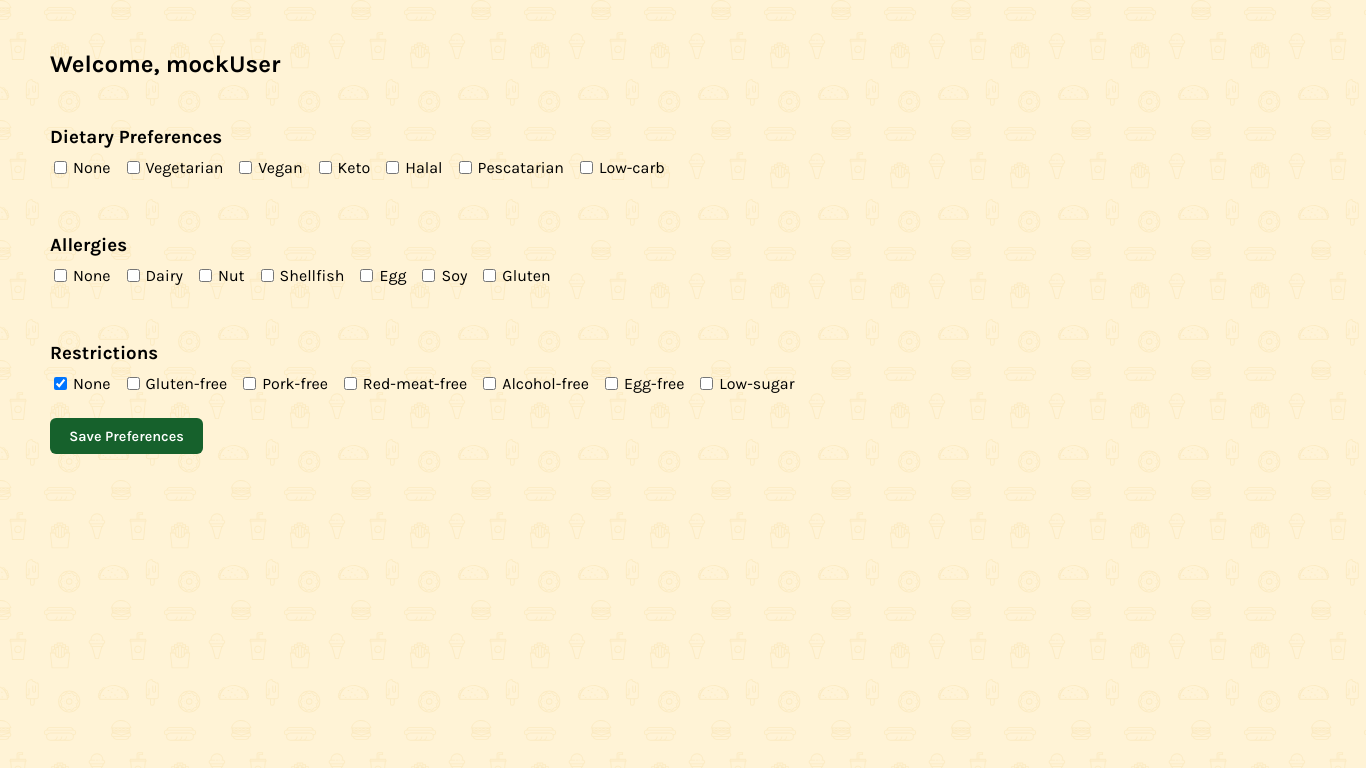
it: MainPage › selecting a restriction option unchecks "None"
Expected: the heading "Welcome, mockUser" is shown, [50,50,280,78]
Expected: the checkbox labelled "None" in the row of "Gluten-free" is checked, [54,377,67,390]
Click the checkbox labelled "Gluten-free". click: (133, 383)
box: [127,377,140,390]
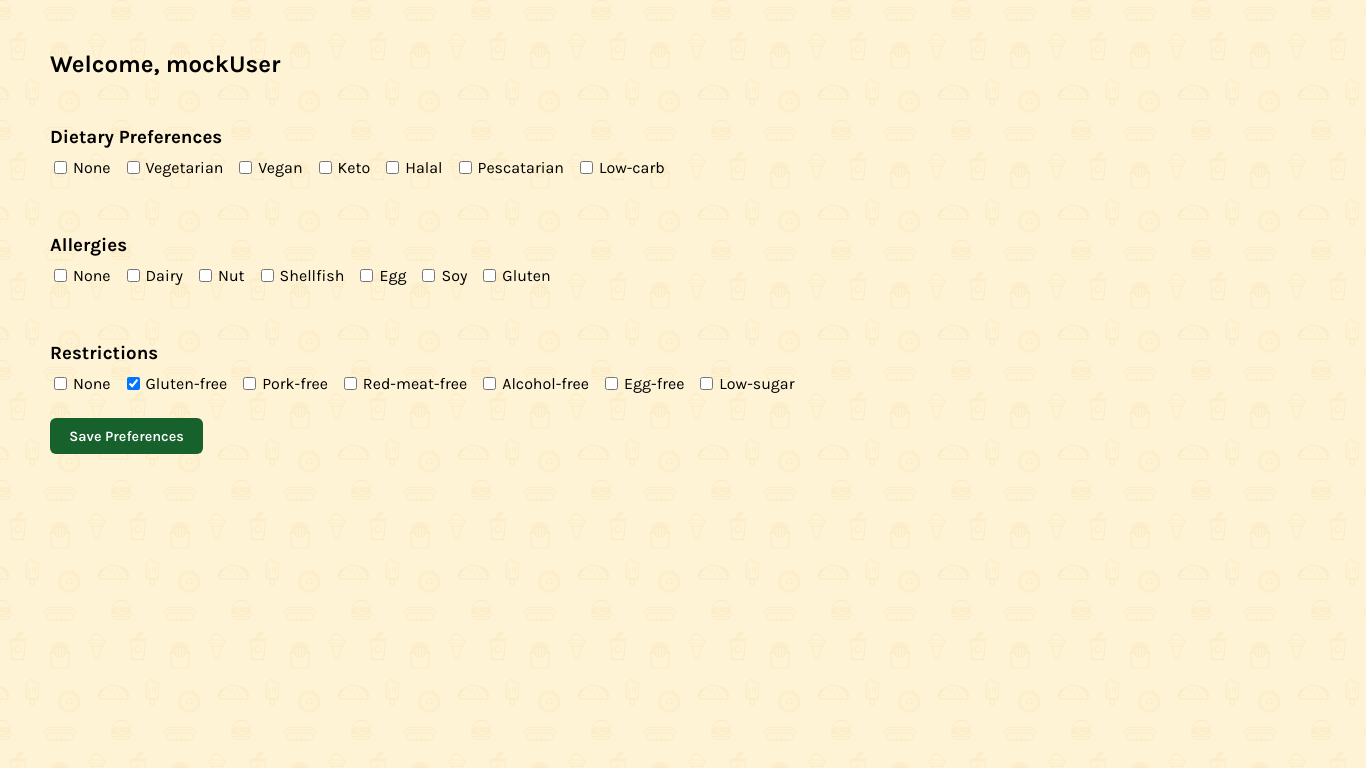
Expected: the checkbox labelled "Gluten-free" is checked, [127,377,140,390]
Expected: the checkbox labelled "None" in the row of "Gluten-free" is not checked, [54,377,67,390]
